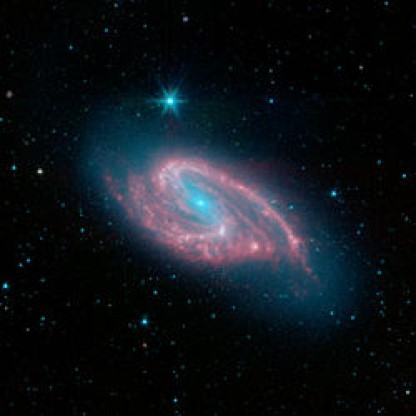Messier 66: (69, 79, 361, 332)
